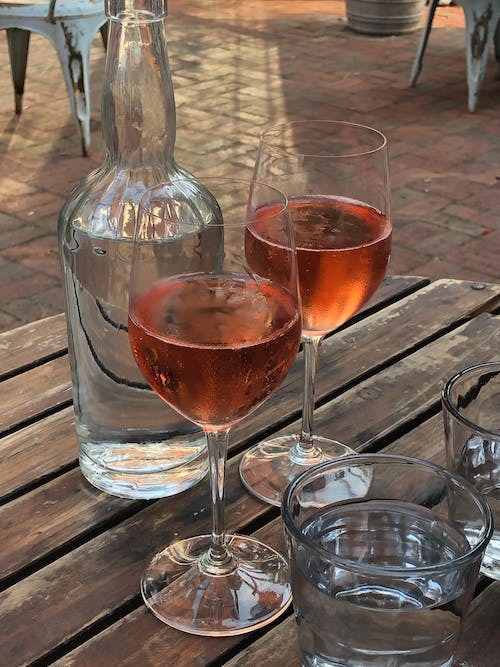alcohol: (125, 174, 305, 640), (236, 116, 394, 508)
